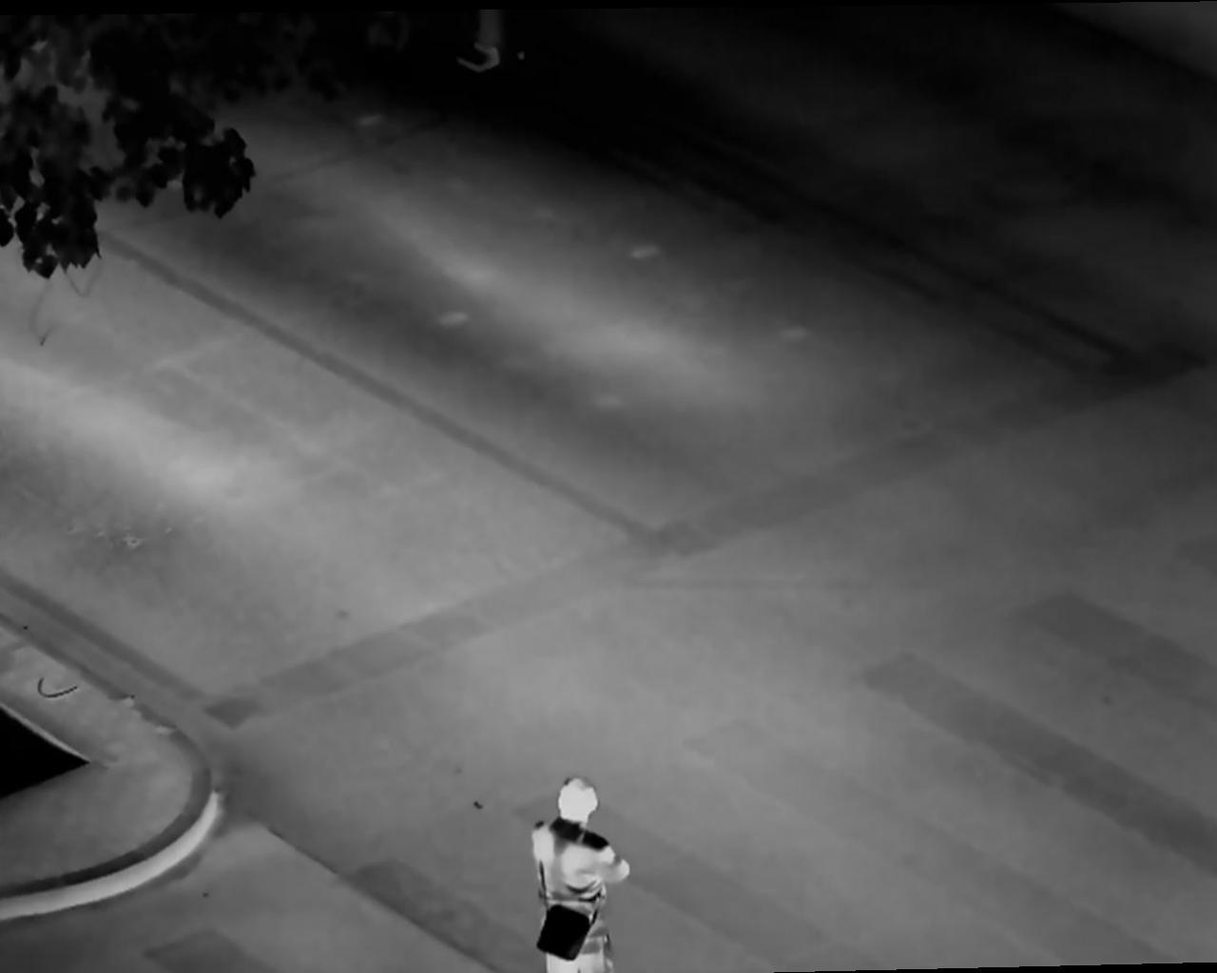person: (514, 772, 634, 973)
